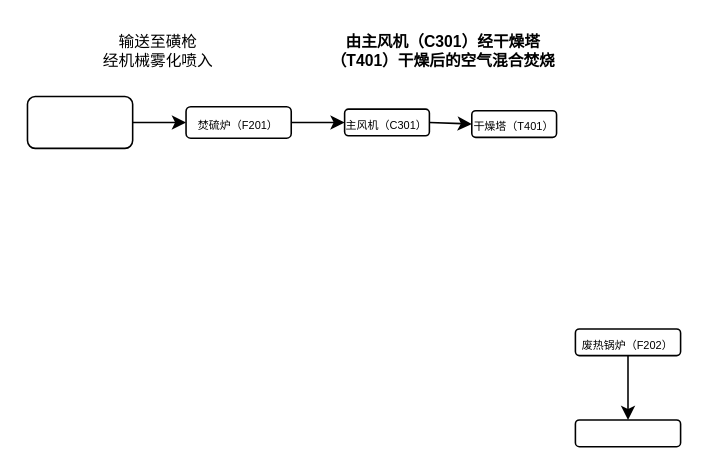
Some shapes in this 708 by 474 pixel diagram are drawn without their labels. Each missing label, with the centre of its shape:
精流输送泵（P103a,b）: point 79,121
高温旁路阀（E301）: point 627,432
